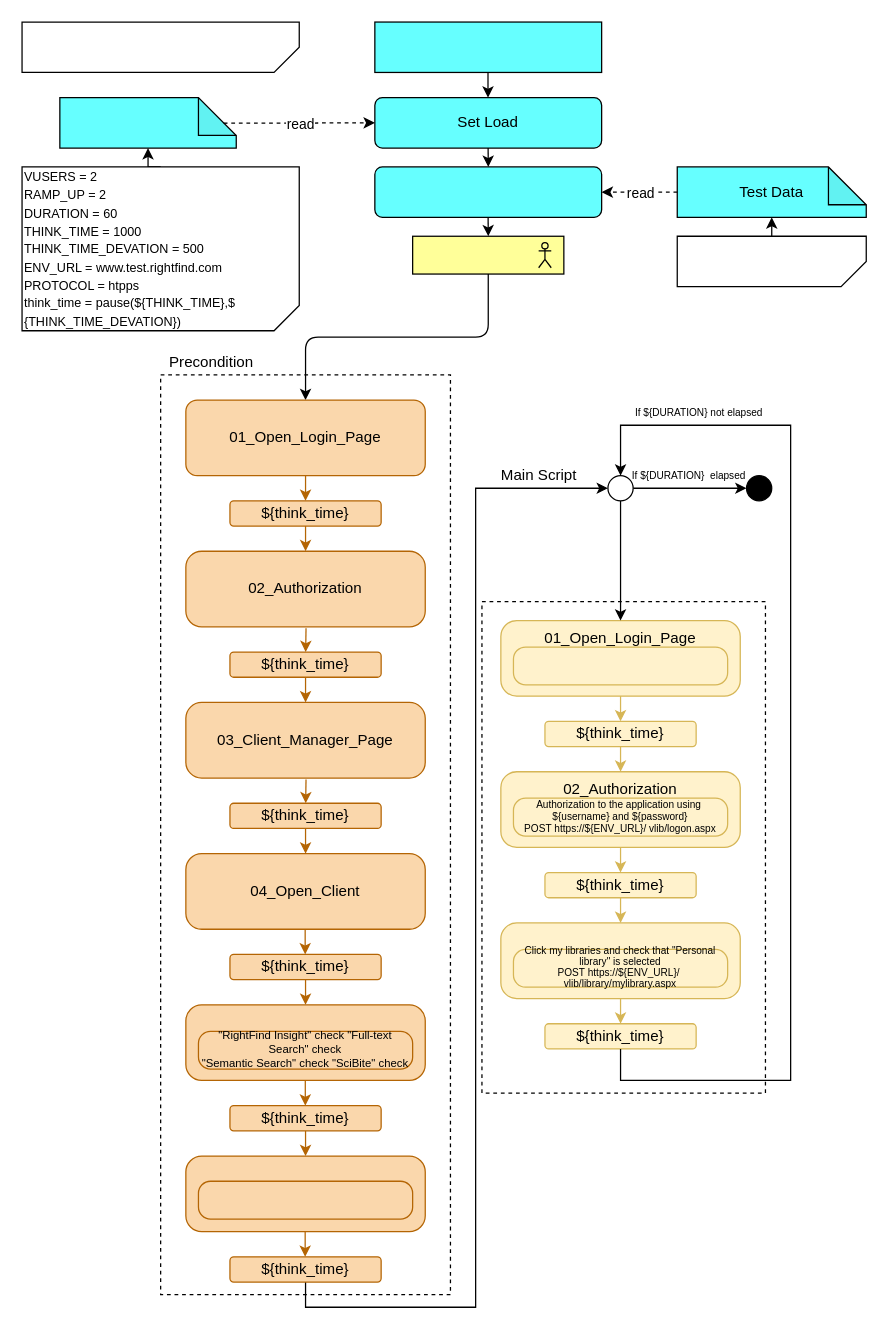
This 888x1339 diagram has some shape labels left out. The shapes that lost their labels are listed below. From the top down, each one's box as (x1, y1, x2, y2) in pixels, then its label:
(21, 21, 299, 72): 2_1_RFE_UI_Opening_Libraries_With_ Big_Number_Of_Documents
(374, 21, 602, 72): Start Test
(59, 96, 236, 148): Load Model
(374, 166, 602, 217): Set Test Data
(411, 235, 564, 274): vUser
(676, 235, 866, 287): searchphrase = ${searchphrase} username = ${username} password = ${password}
(512, 646, 728, 685): Open application main page - GET https://${ENV_URL}/
(500, 922, 740, 999): 03_Open_My_Libraries
(185, 1004, 425, 1080): 05_Client_Update
(185, 1155, 425, 1232): 06_Open_Client_Verify
(197, 1180, 413, 1219): Verify Precondition setup
